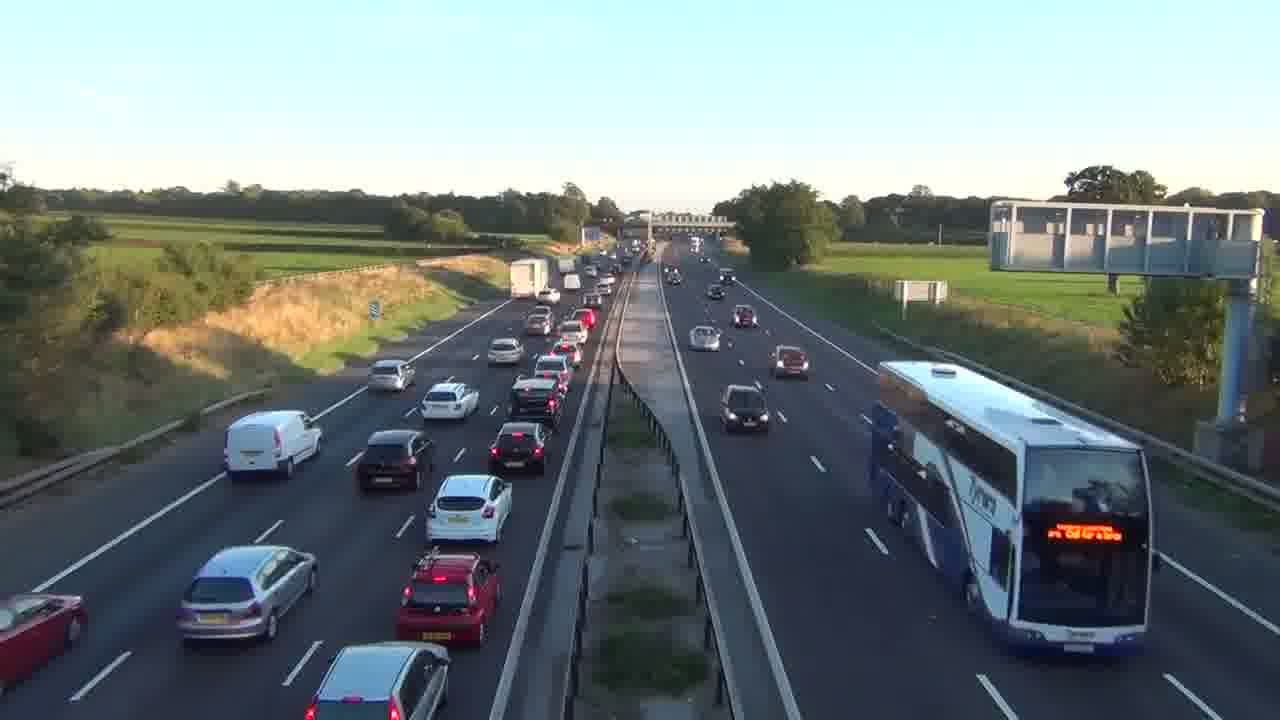bus: (873, 357, 1154, 657)
car: (175, 542, 320, 648), (303, 640, 451, 719), (392, 552, 501, 647), (424, 472, 514, 544), (353, 428, 435, 491), (488, 421, 547, 474), (719, 382, 770, 434), (420, 380, 480, 422), (366, 357, 415, 394), (768, 344, 811, 379), (487, 336, 524, 367)
truck: (0, 589, 90, 686), (224, 409, 323, 479)
